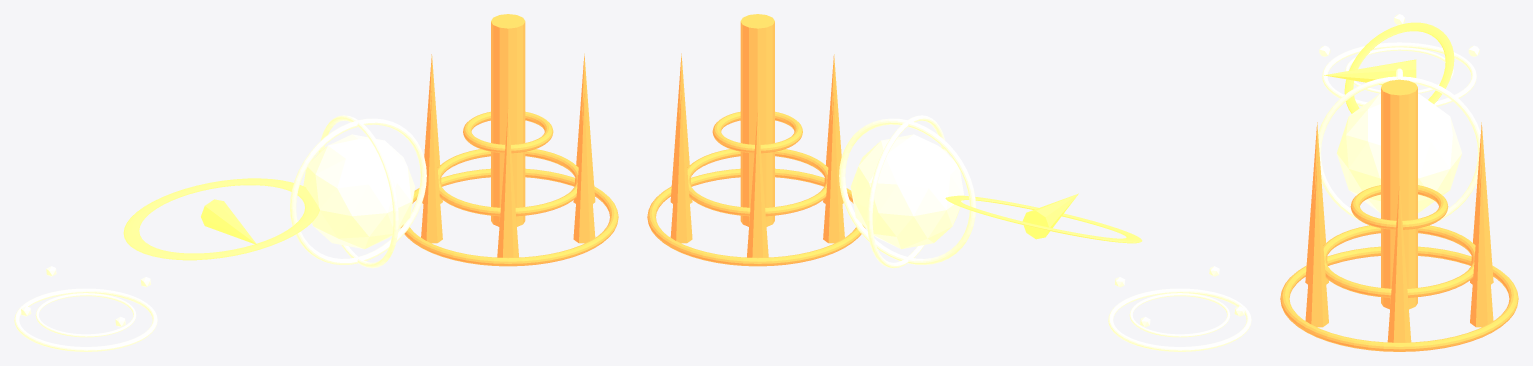
File: danella_skills_vfx.glb
The picture shows the model from 3 angles, left to right: view 1: azimuth 30°, elevation 25°; view 2: azimuth 150°, elevation 25°; view 3: azimuth 270°, elevation 25°; orthographic projection. The views are drawn at different scales.
Visible parts, largest first — view 1: VFX_Ultimate, VFX_Skill_2, VFX_Skill_1, VFX_Passive; view 2: VFX_Ultimate, VFX_Skill_2, VFX_Passive, VFX_Skill_1; view 3: VFX_Ultimate, VFX_Skill_2, VFX_Skill_1, VFX_Passive.
Part boxes in pixels (x1,y1,x2,y2): VFX_Ultimate: (400,14,618,266); VFX_Skill_2: (290,115,426,268); VFX_Skill_1: (123,178,319,260); VFX_Passive: (14,266,157,351); VFX_Ultimate: (647,14,865,266); VFX_Skill_2: (839,115,975,268); VFX_Passive: (1108,266,1251,351); VFX_Skill_1: (945,193,1142,243); VFX_Ultimate: (1280,79,1518,351); VFX_Skill_2: (1318,68,1480,220); VFX_Skill_1: (1324,22,1454,113); VFX_Passive: (1319,14,1479,106).
Bounding box in the file's own units: 8.55 × 2.88 × 2.81.
